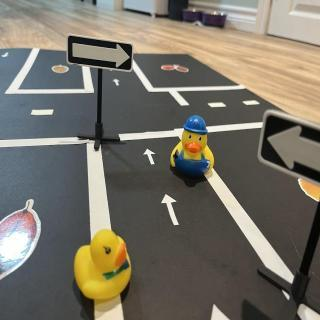duck_regular: (75, 230, 133, 308)
duck_specialty: (171, 117, 216, 185)
road_oneway: (162, 192, 183, 230), (207, 302, 236, 320), (143, 146, 158, 170), (112, 79, 124, 89), (1, 50, 11, 59)
sign_oneway_left: (258, 108, 320, 190)
sign_oneway_right: (66, 33, 135, 75)
